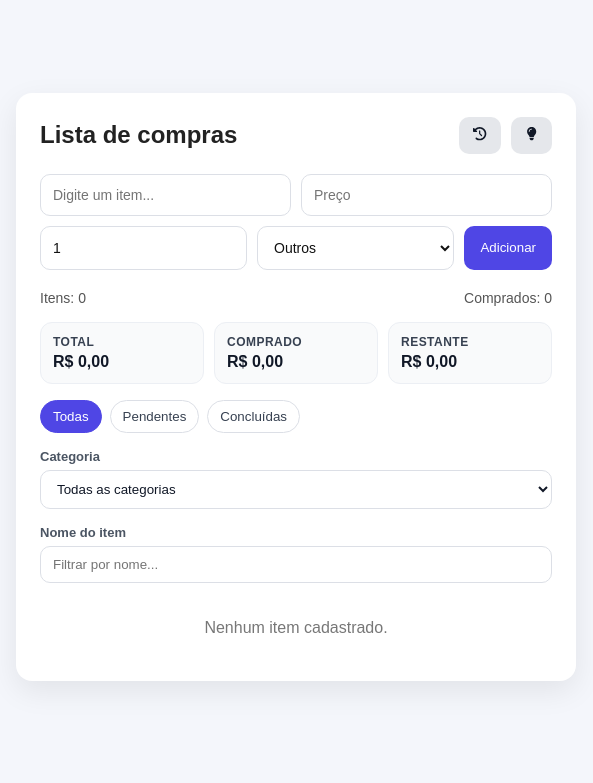
Test: Shopping app › filters items by category
This screenshot has width=593, height=783.
In the field with placeholder "Digite um item...": (166, 195) x1=40 y1=174 x2=291 y2=216, type "Sabão"
Select "Limpeza" in the dropdown named "Categoria do item": (356, 248) x1=257 y1=226 x2=454 y2=270
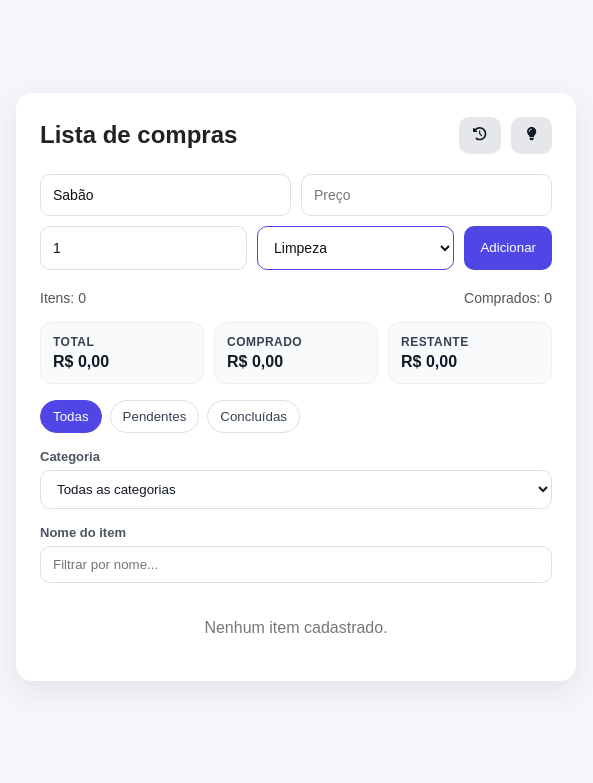
Click the button "Adicionar": (508, 248) x1=464 y1=226 x2=552 y2=270
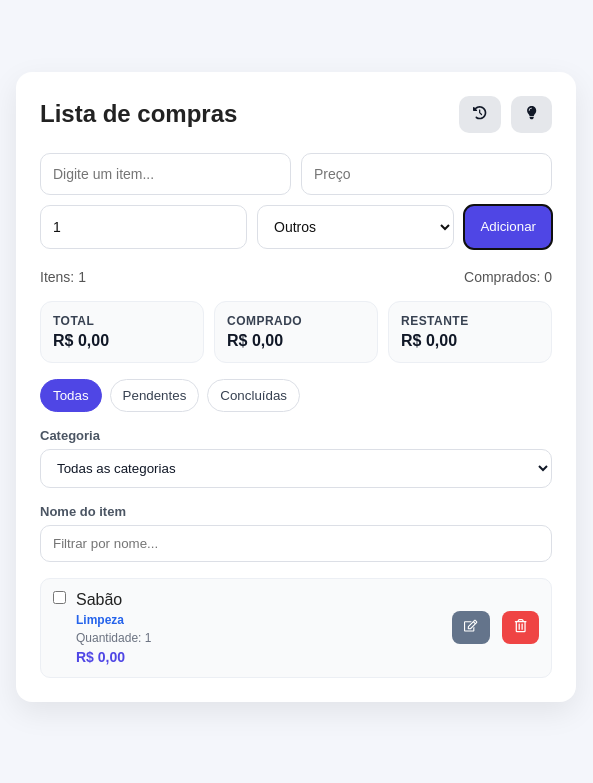
In the field with placeholder "Digite um item...": (166, 174) x1=40 y1=153 x2=291 y2=195, type "Suco"
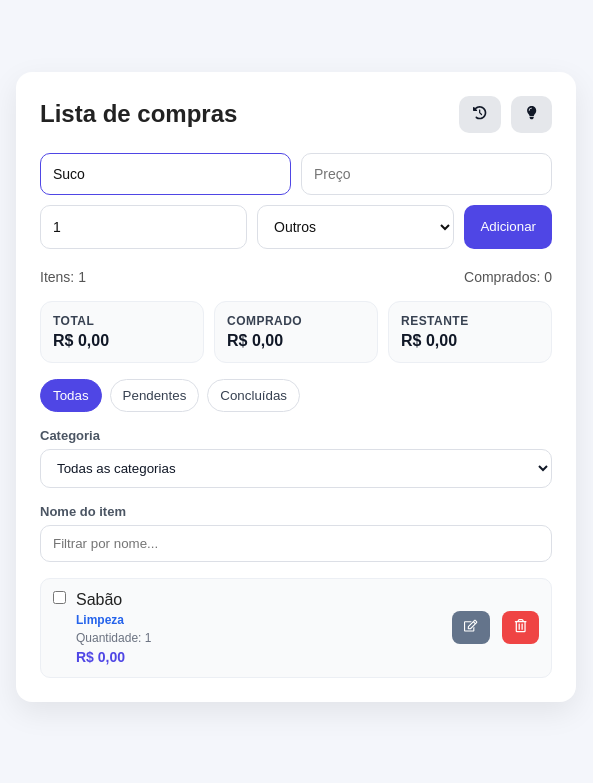
Select "Bebidas" in the dropdown named "Categoria do item": (356, 227) x1=257 y1=205 x2=454 y2=249
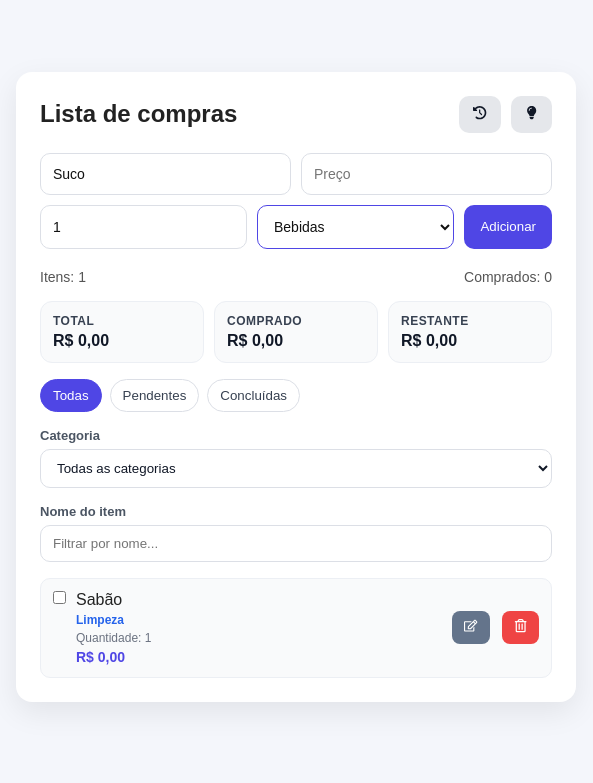
Click the button "Adicionar": (508, 227) x1=464 y1=205 x2=552 y2=249
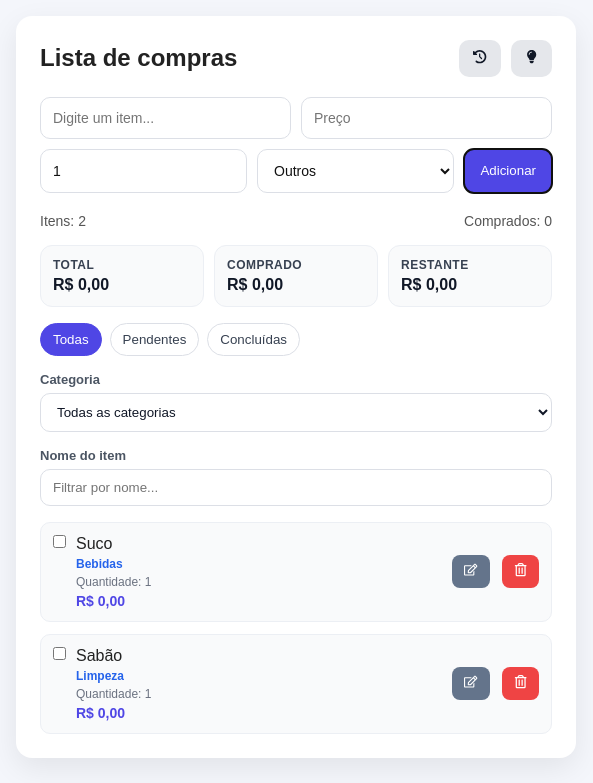
Select "Limpeza" in the dropdown labelled "Categoria": (296, 412) x1=40 y1=393 x2=552 y2=432
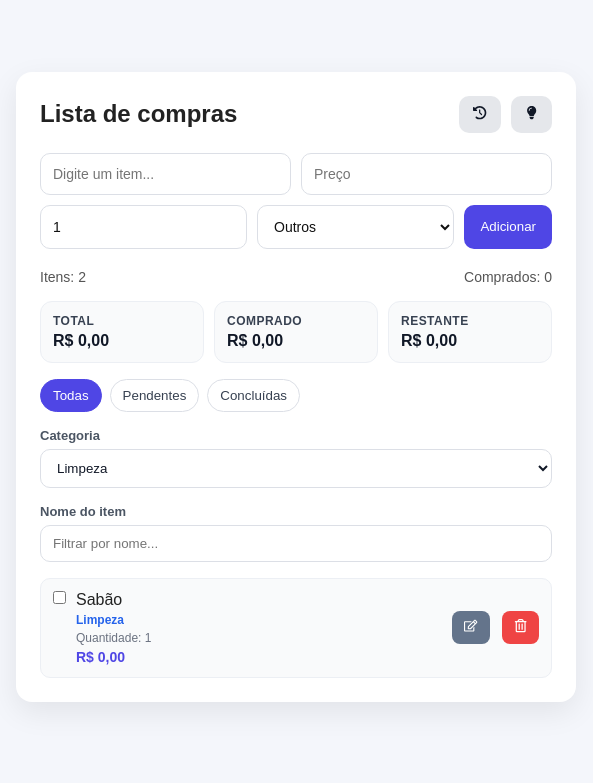
expect the text "Sabão" is shown: met, box x1=76 y1=591 x2=122 y2=608
expect the text "Suco" is gone: met
